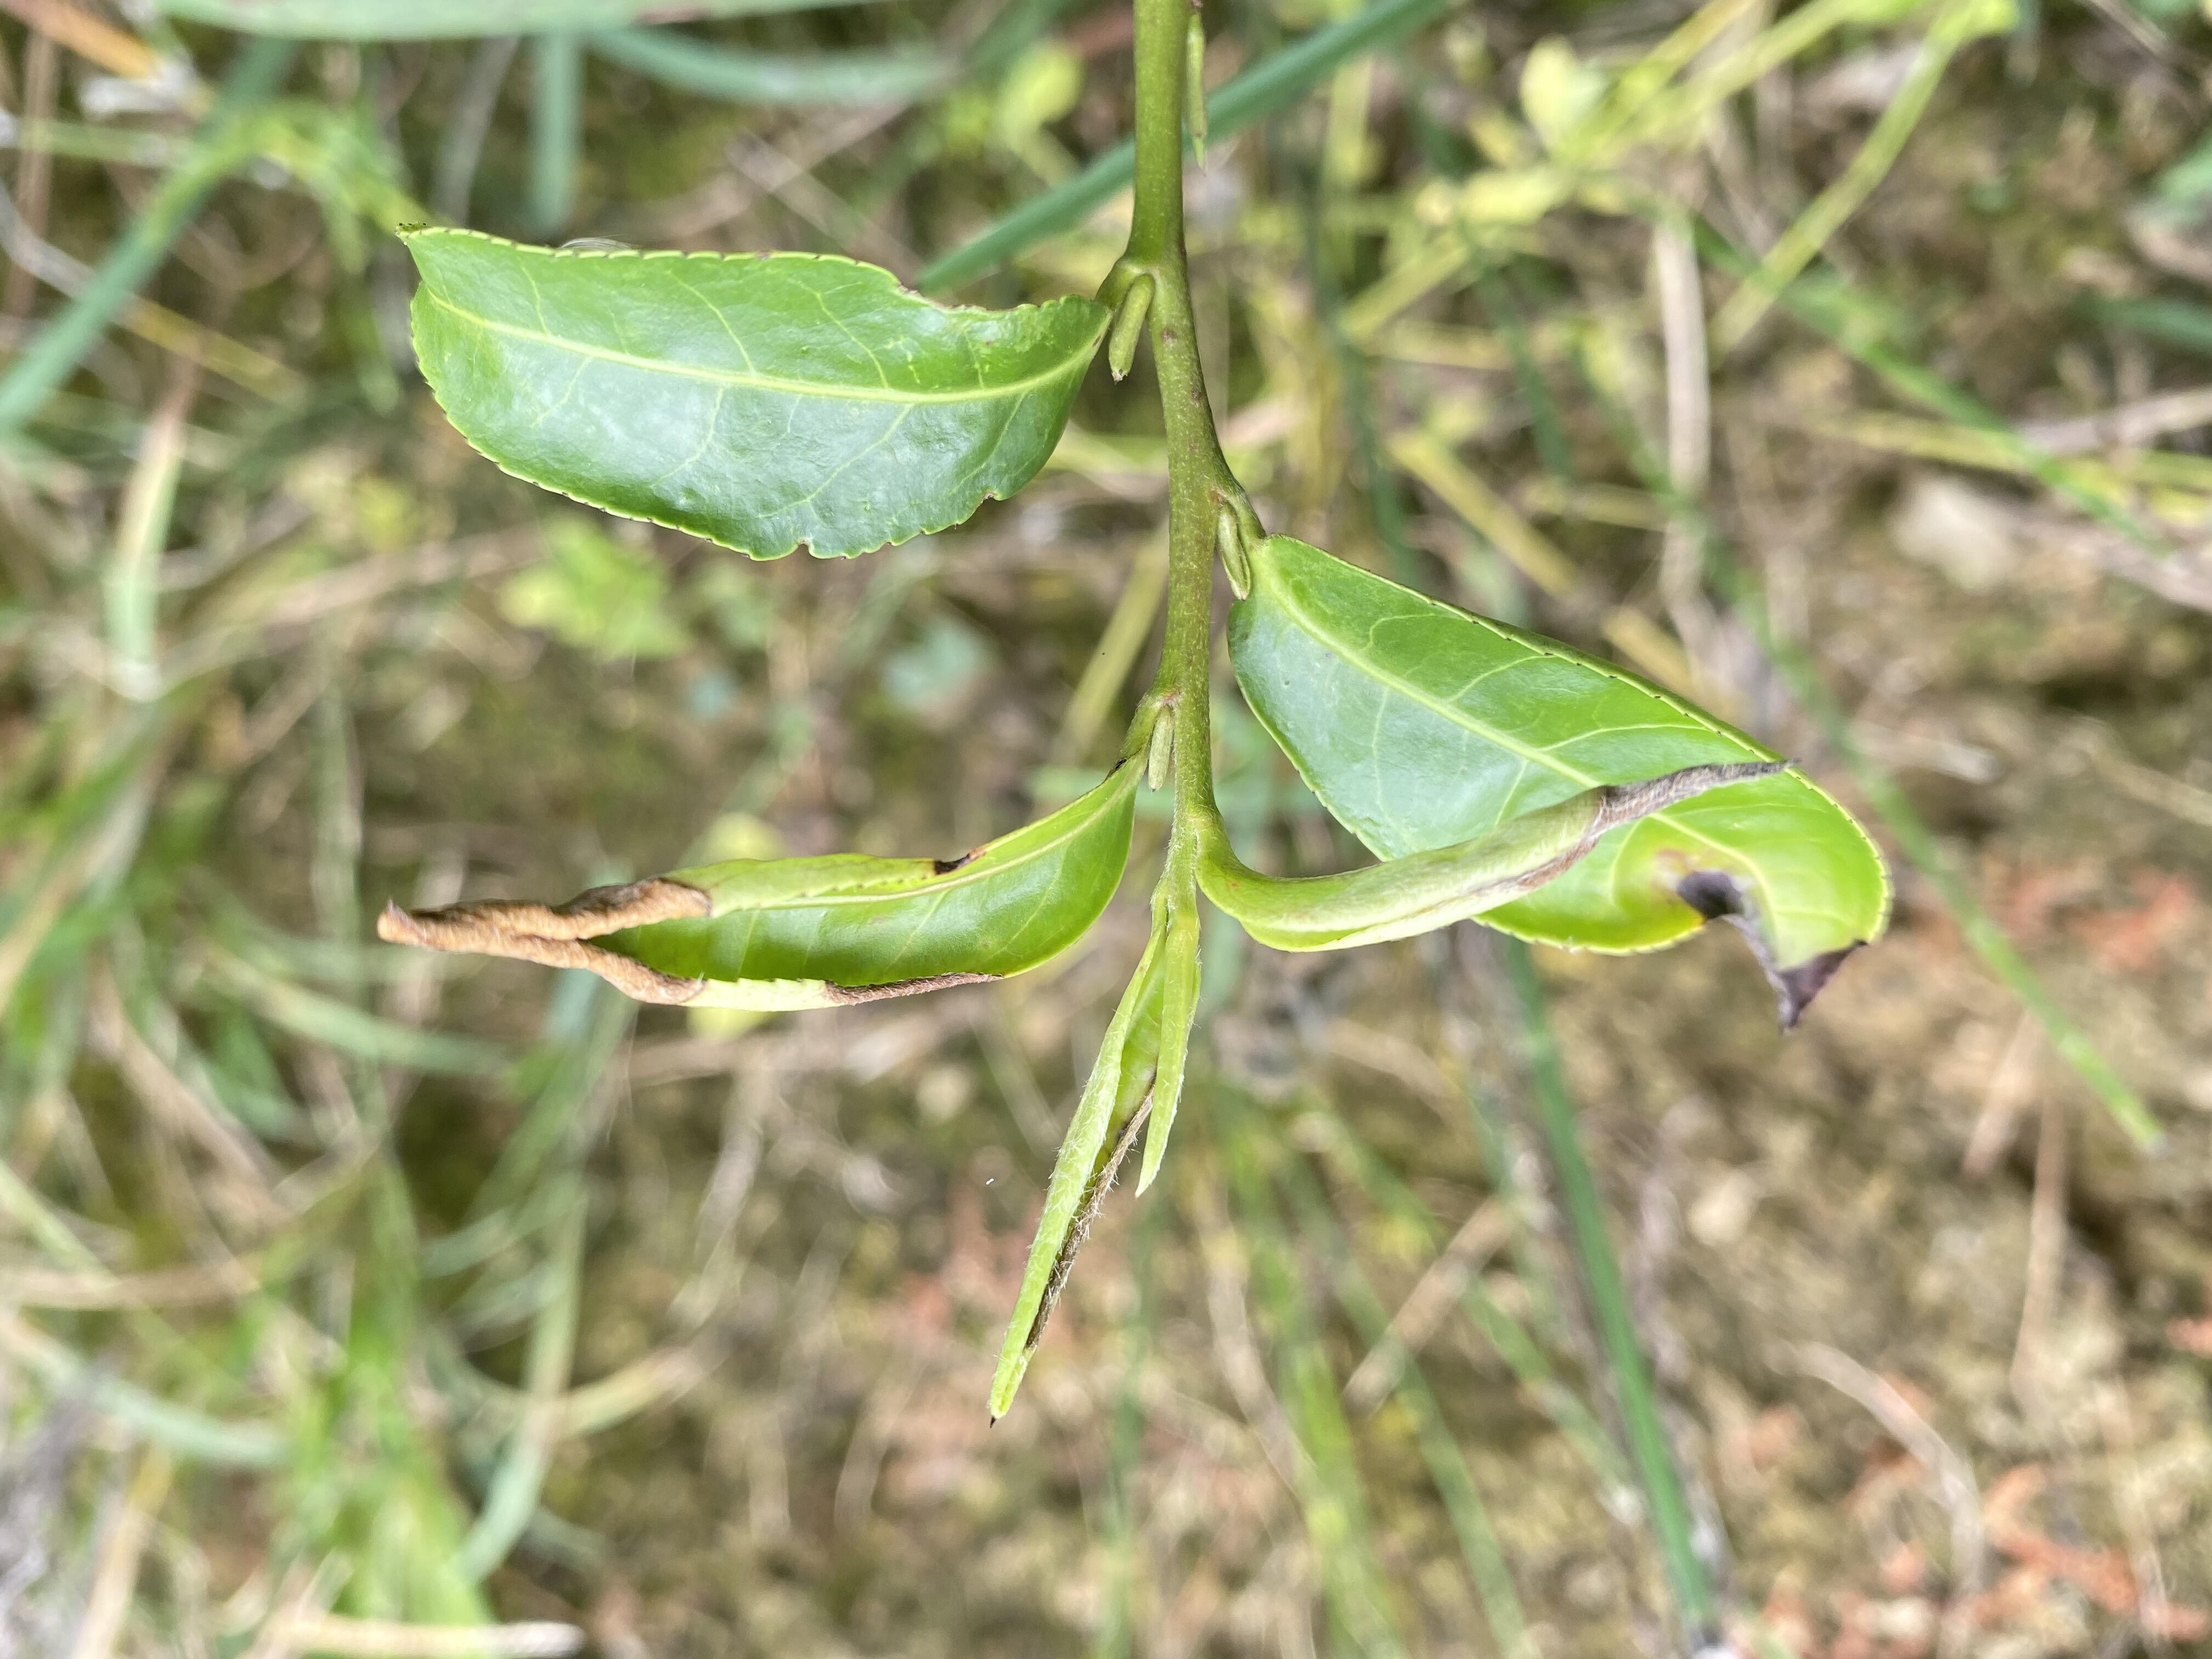chihuo_low: (394, 221, 1113, 563)
tanju_high: (1238, 538, 1893, 1030), (371, 755, 1151, 1012), (1211, 756, 1801, 946), (986, 927, 1204, 1422)
